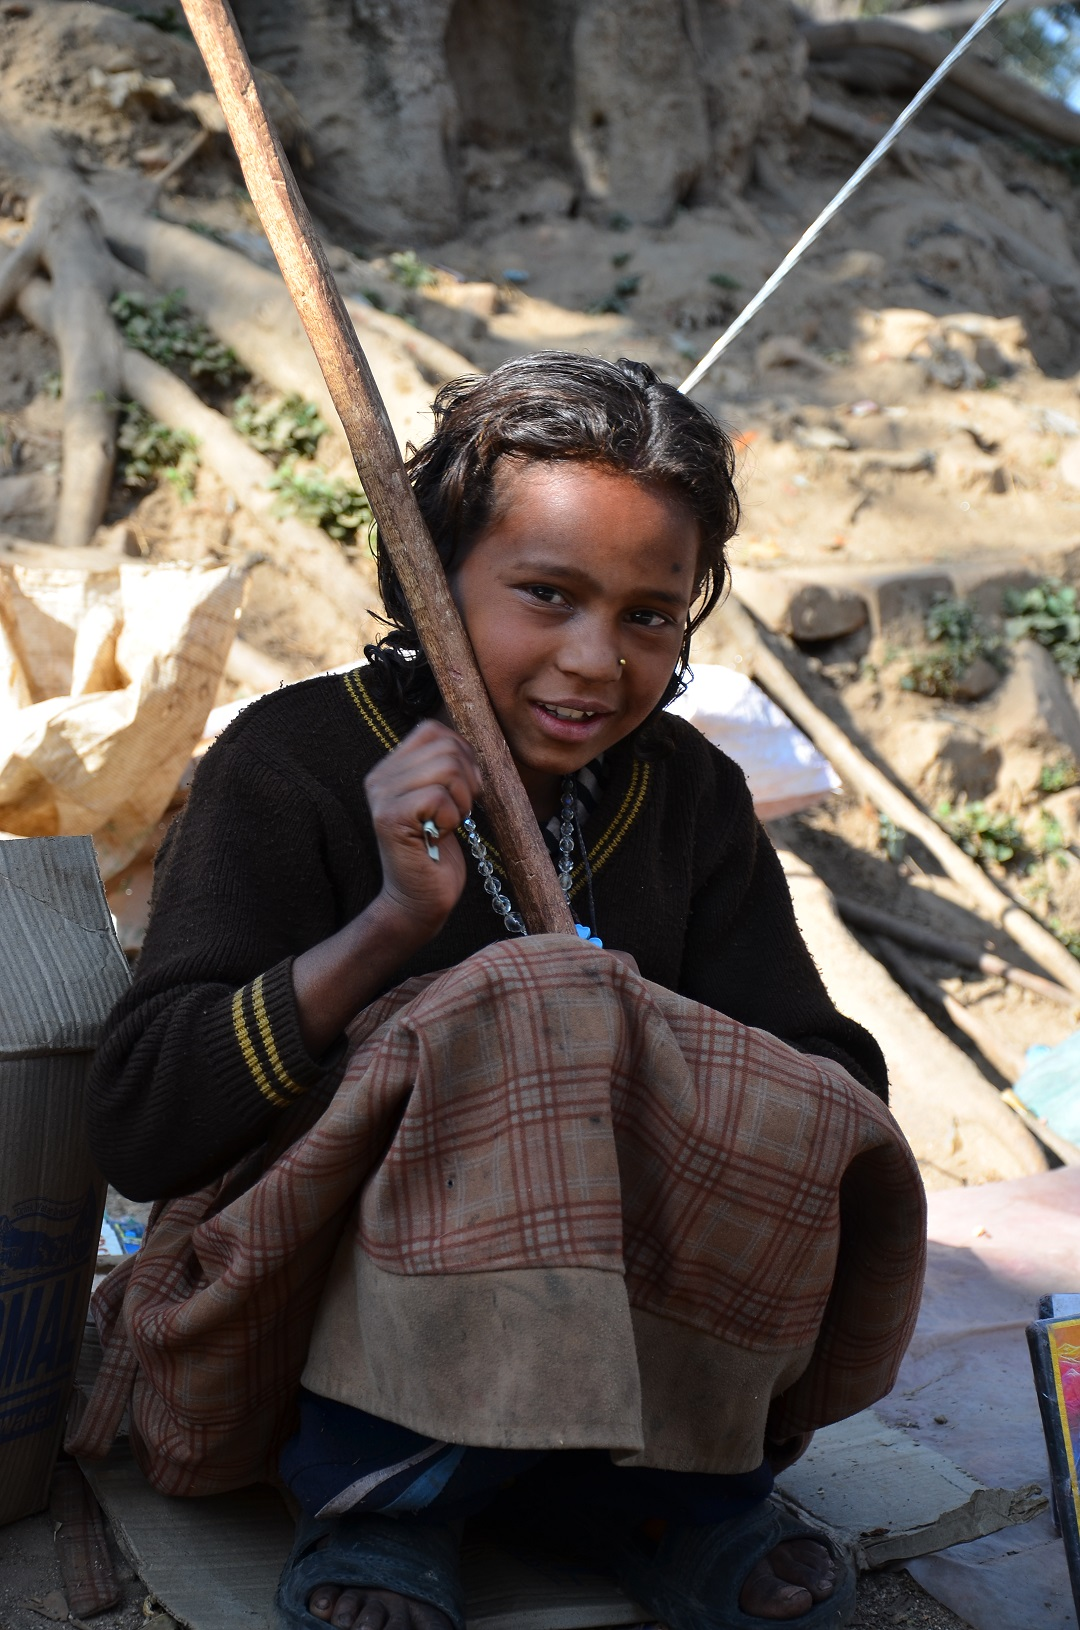human: (54, 326, 923, 1630)
